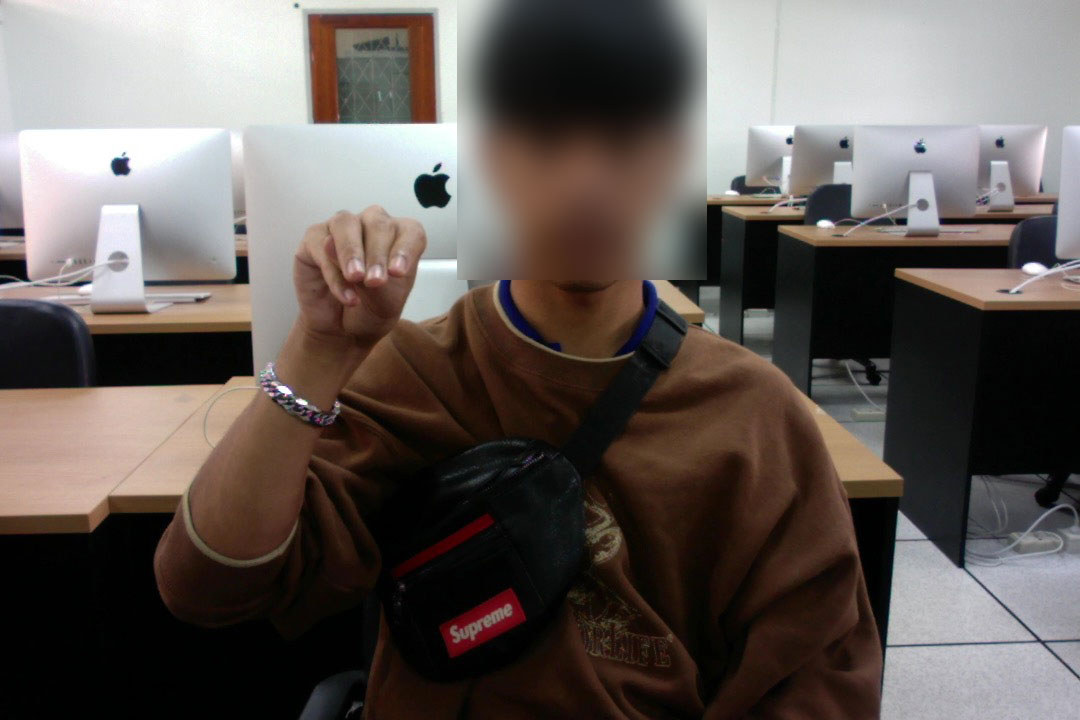mor: (292, 194, 429, 365)
